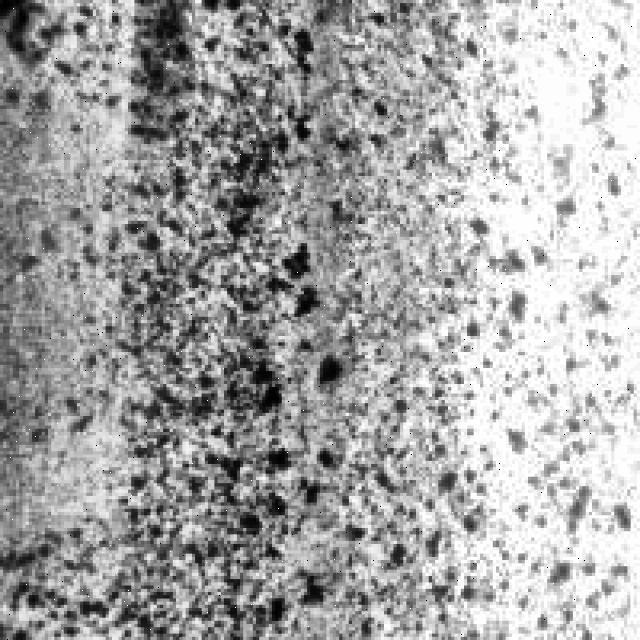Rolled_in_Scale: (19, 0, 336, 637), (371, 3, 634, 630)
